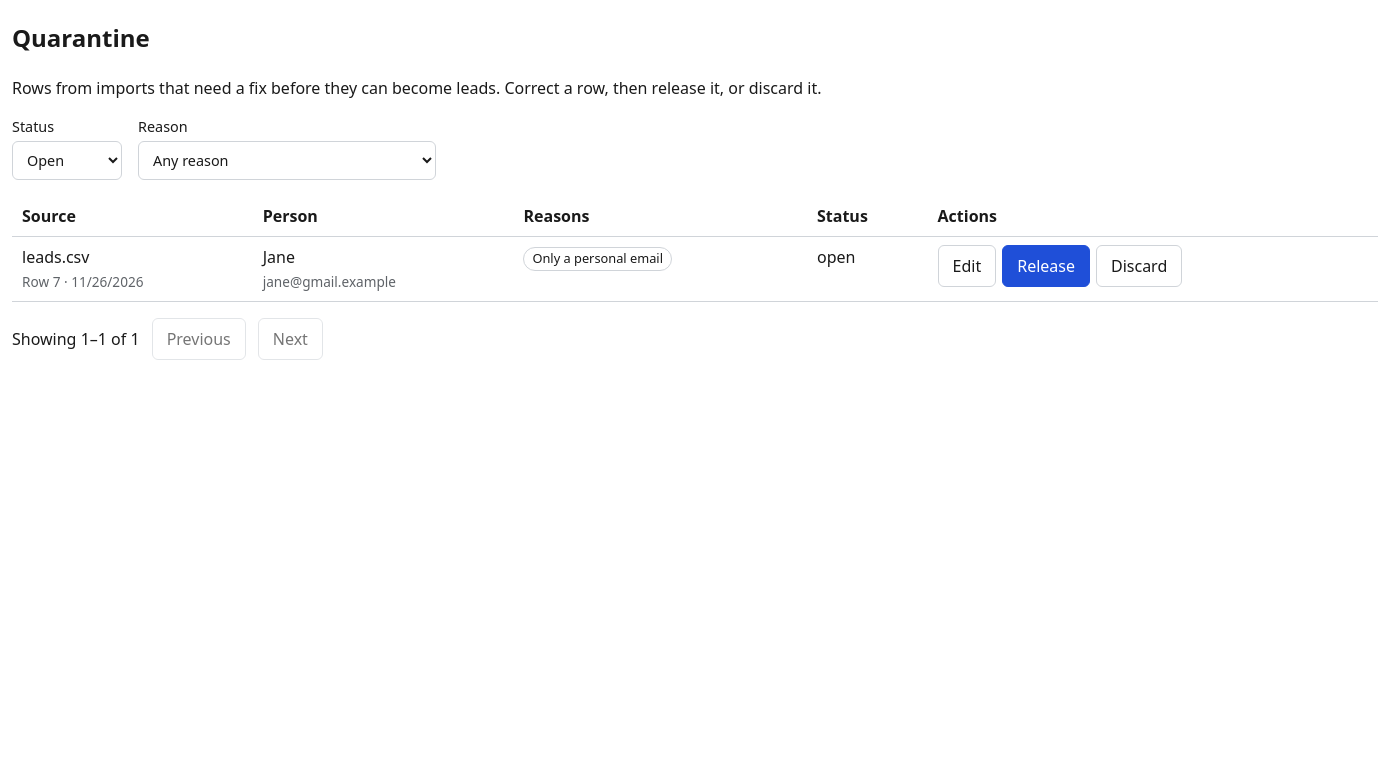
edit › a 422 from the server is shown with its reason and the editor stays open
The width and height of the screenshot is (1378, 768).
Expected: the text "leads.csv" is shown, [22,246,89,268]
Click the button with aria-label "Edit row 7 of leads.csv" at (967, 266), box [938,245,996,287]
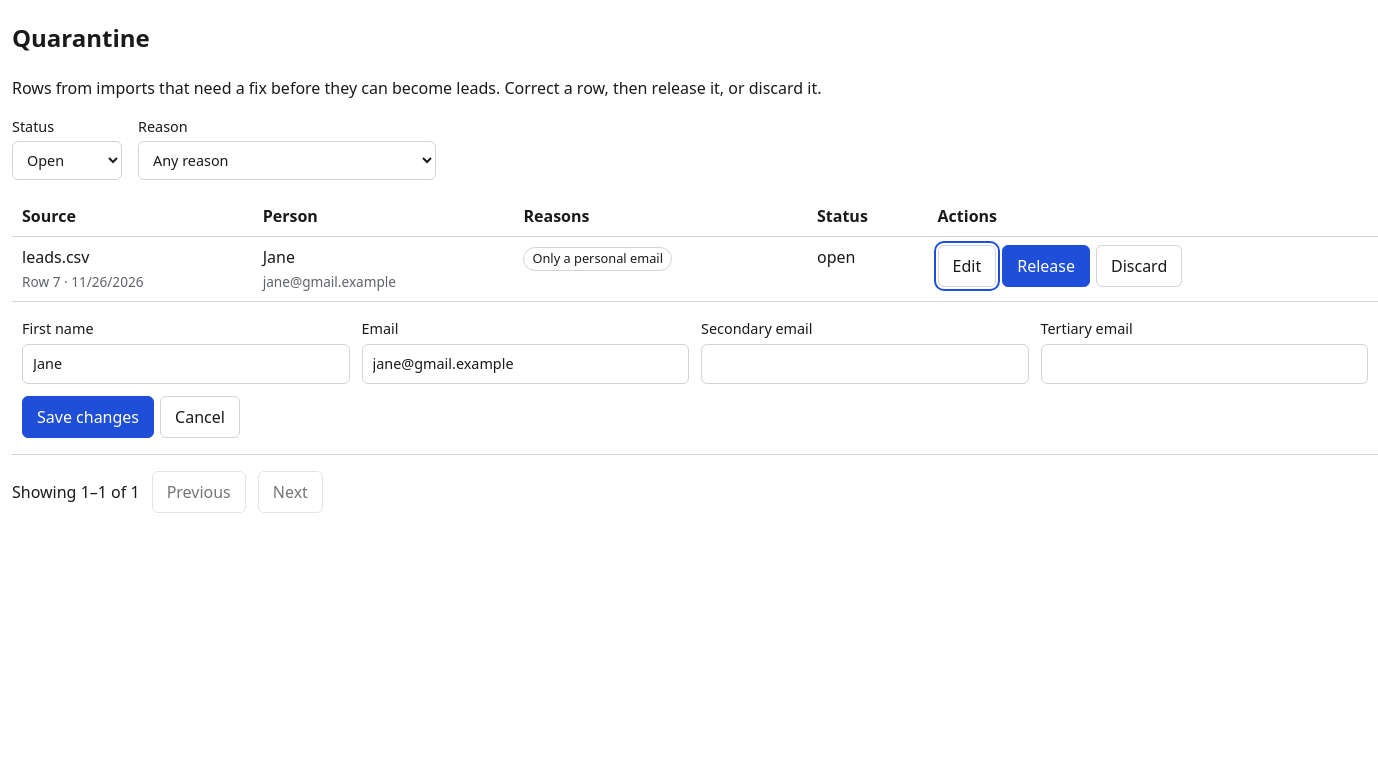
Type "x@acme.example" into the field labelled "Secondary email" at (865, 364), box [701,344,1028,384]
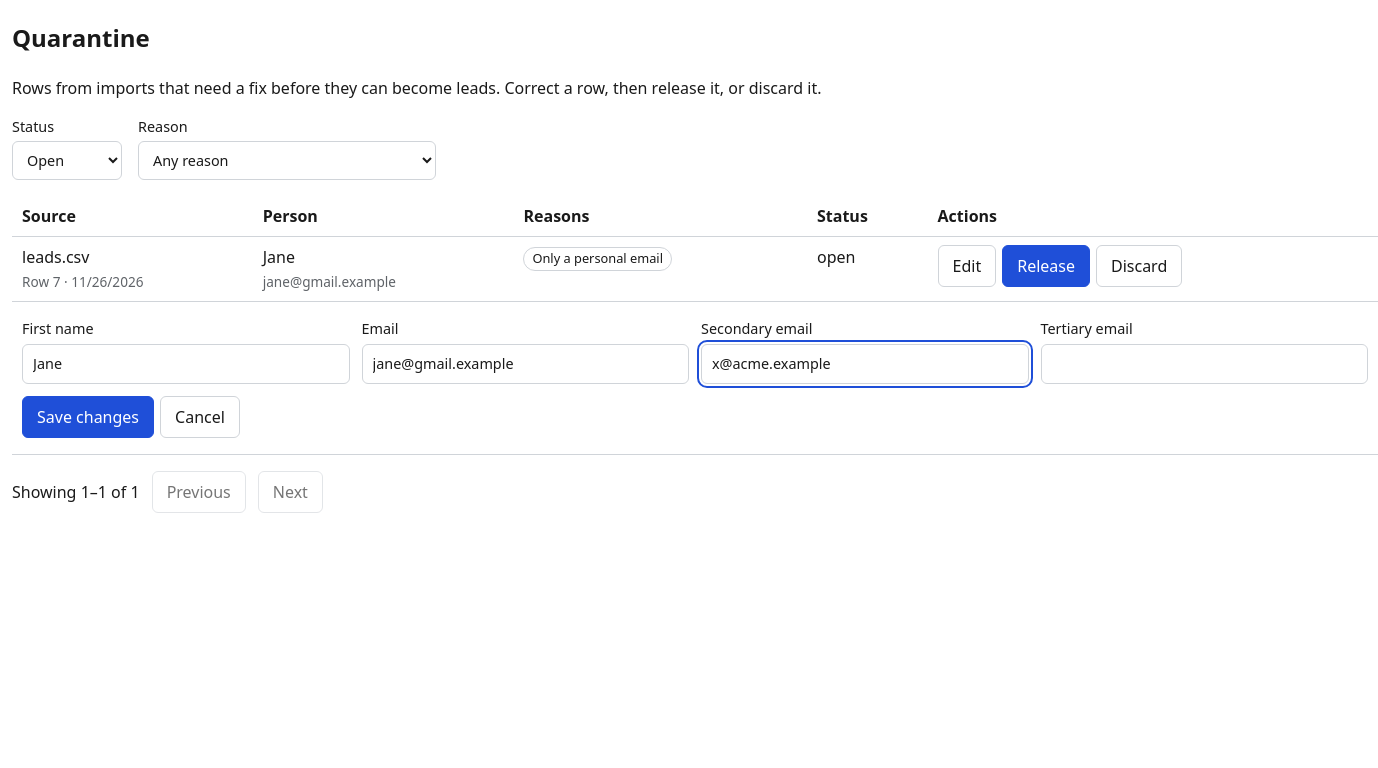
Click the button "Save changes" at (88, 417), box [22,396,154,438]
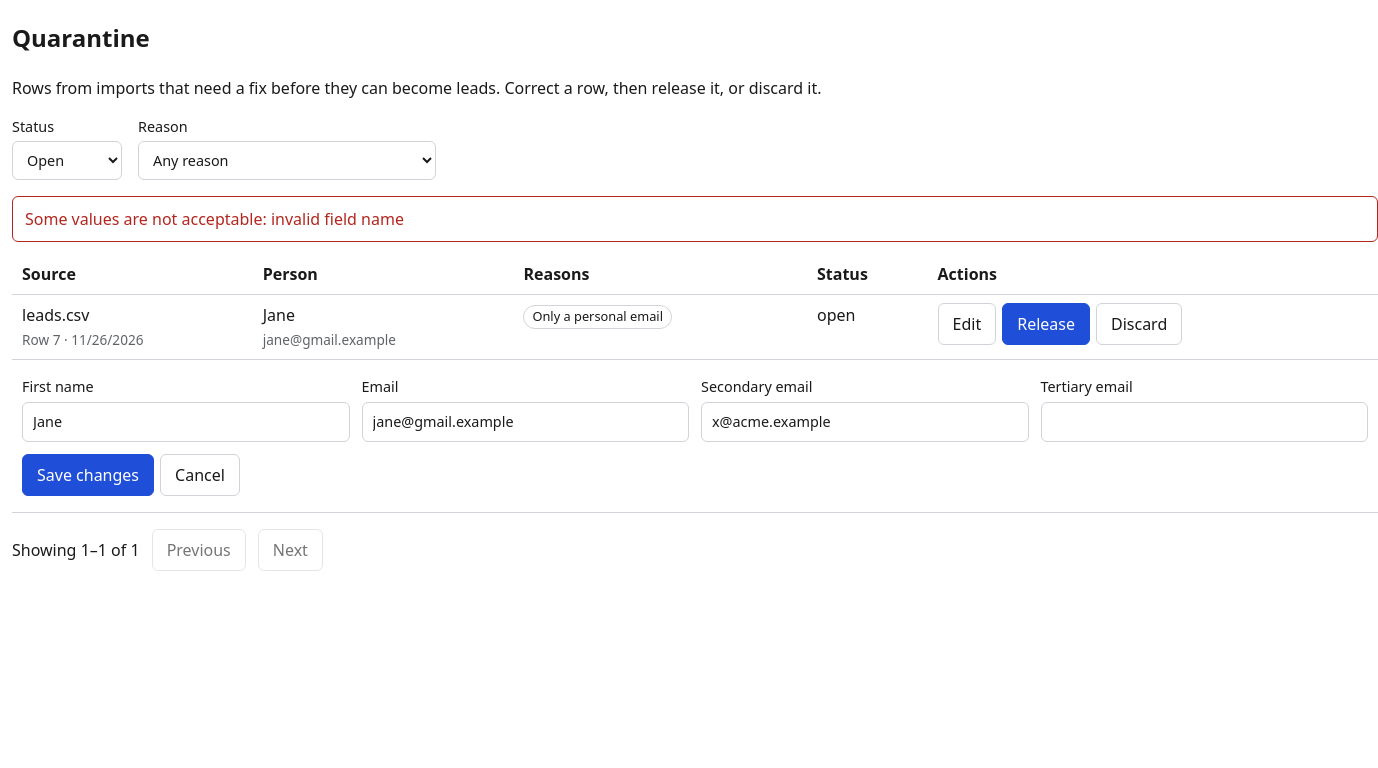
Expected: the button "Save changes" is shown, [22,454,154,496]
Expected: the text "Some values are not acceptable: invalid field name" is shown, [12,196,1377,242]
